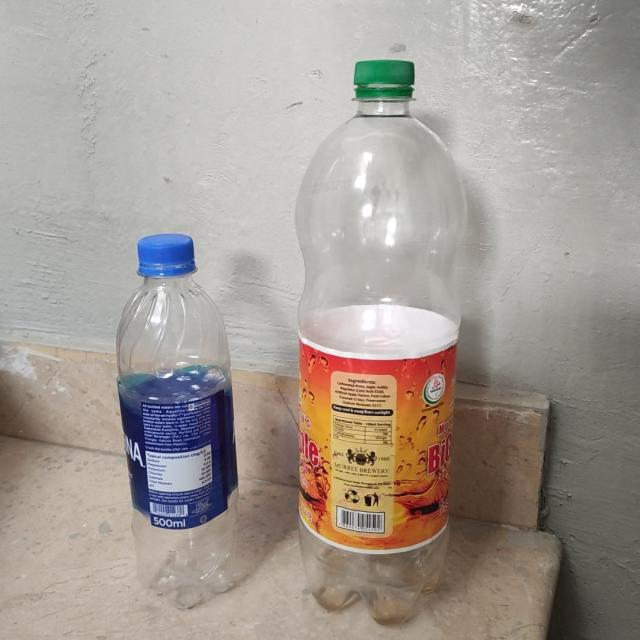bottle: (296, 58, 472, 628), (116, 226, 242, 606)
cap: (133, 233, 198, 277), (352, 60, 416, 101)
label: (301, 332, 456, 551), (119, 381, 236, 514)
